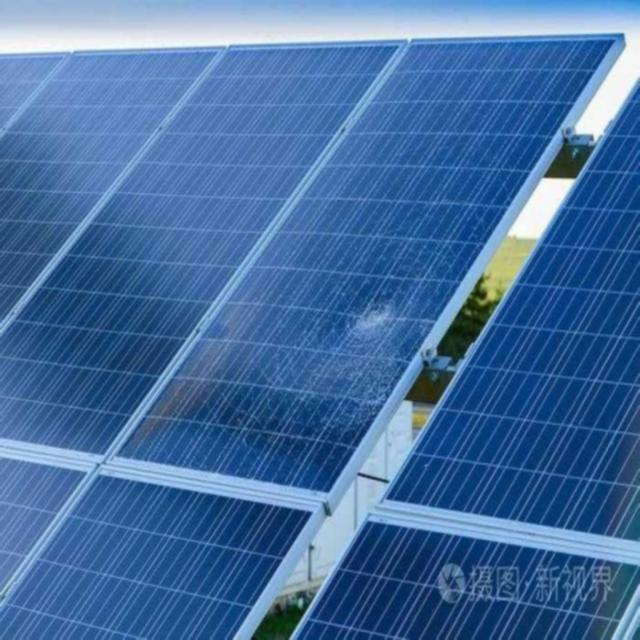cracked: (150, 44, 590, 497)
